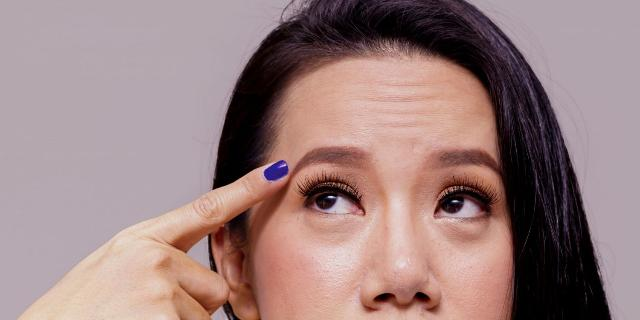forehead: (371, 91, 424, 131)
